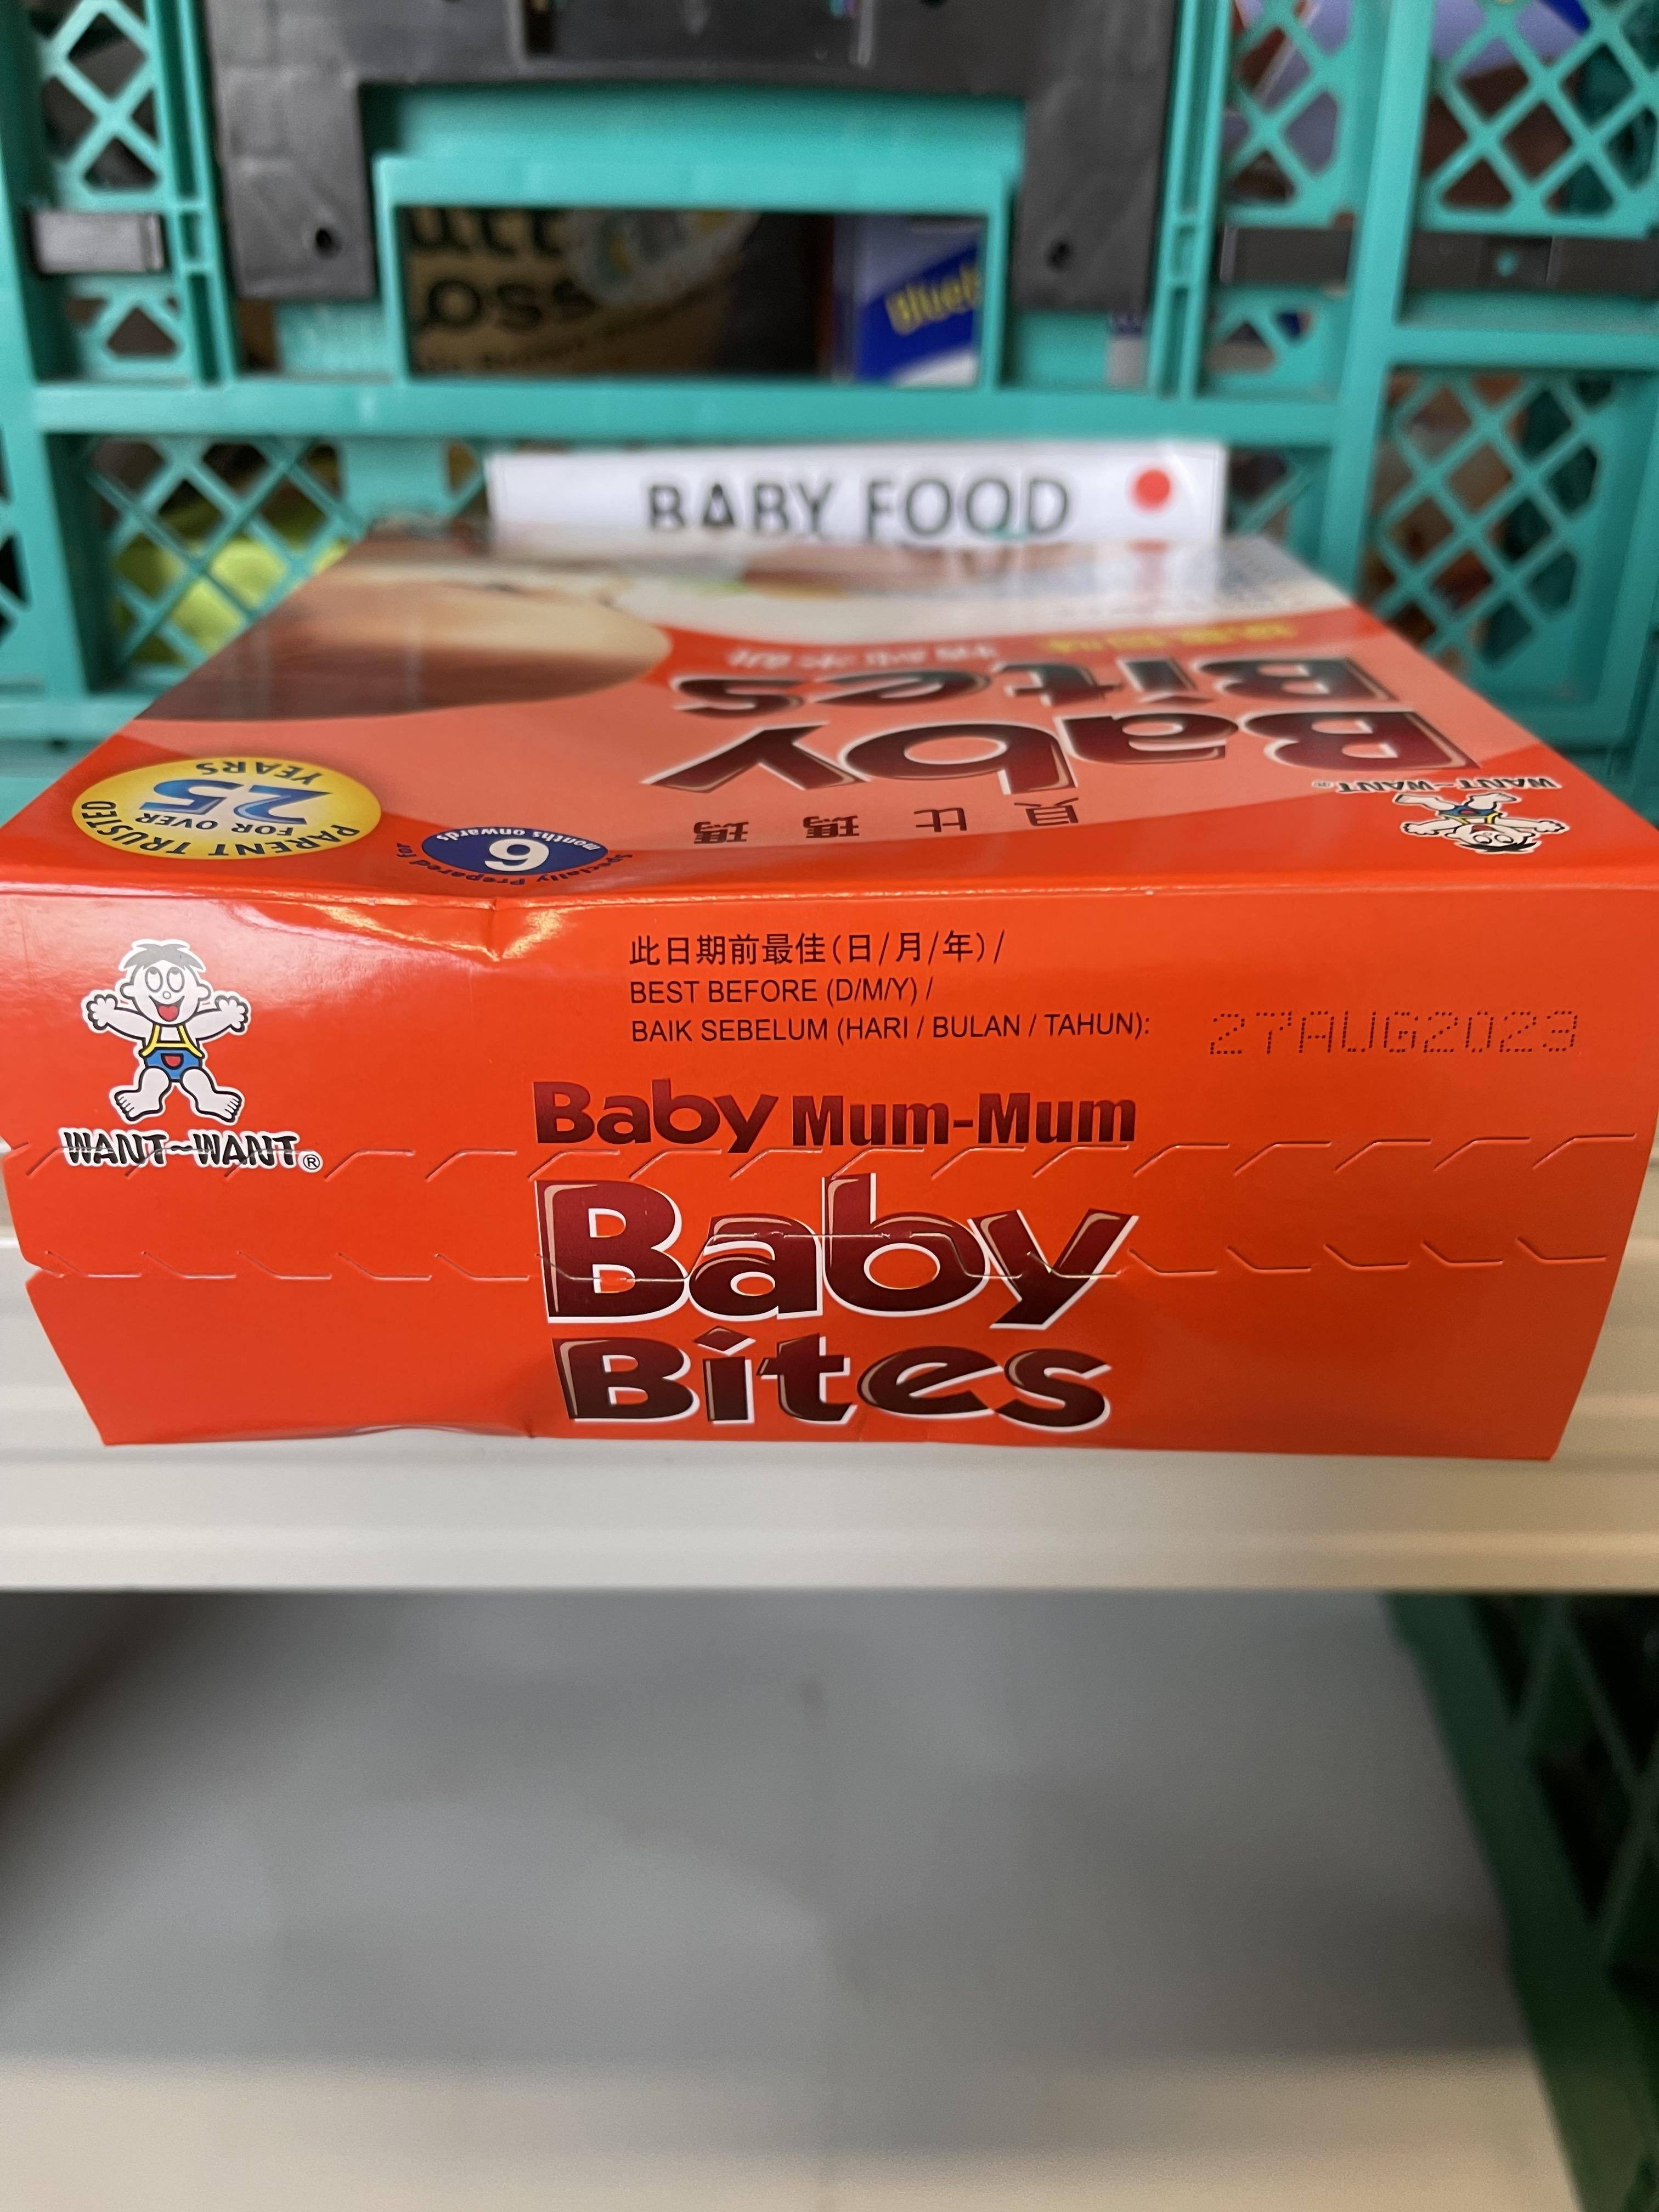object_name: (54, 784, 1621, 1430)
